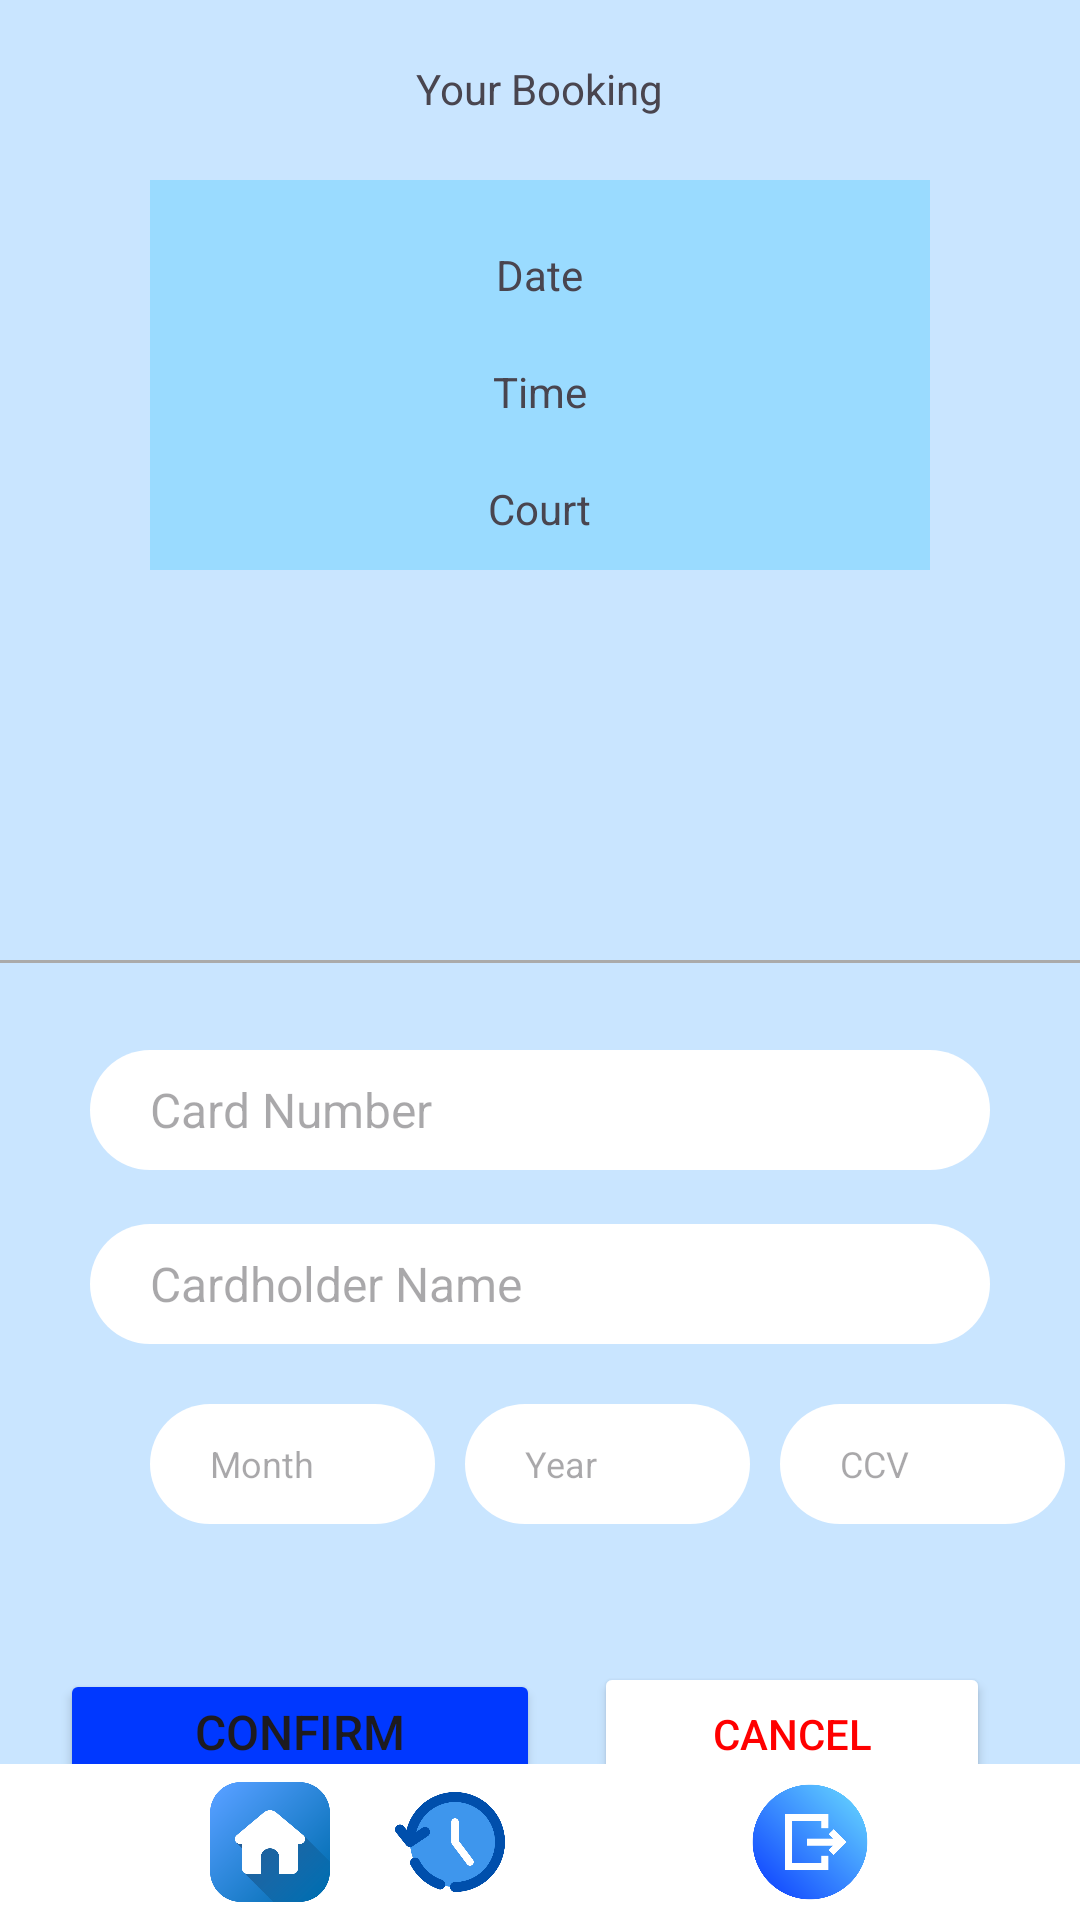

Icons on this 1080 × 1920 Android screen, each with the point to tap as [x,y]:
clock: [450,1842]
home: [270,1842]
log: [810,1842]
